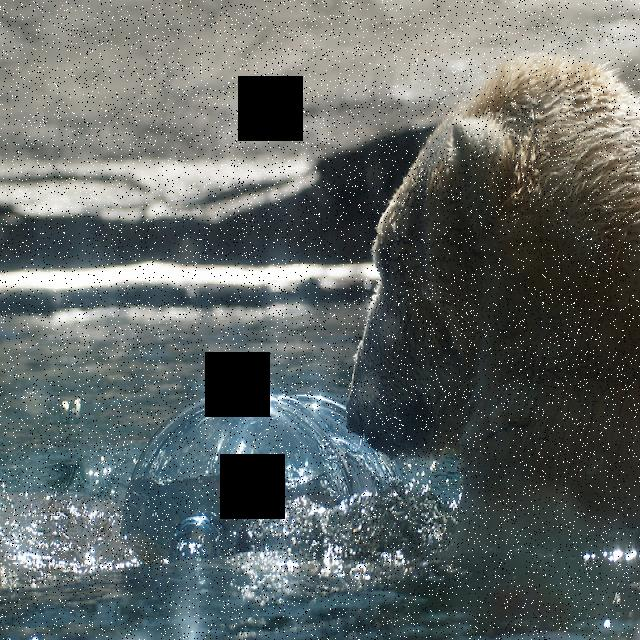Bear: (335, 32, 640, 545)
